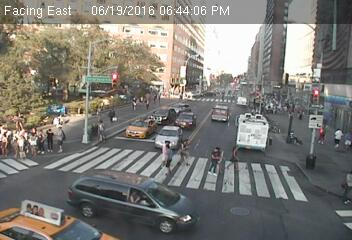neg: (127, 184, 145, 208), (51, 92, 66, 111), (38, 98, 52, 117), (71, 93, 84, 111), (98, 66, 110, 83), (86, 68, 93, 78), (89, 80, 95, 89)
pos: (206, 145, 229, 176), (226, 143, 246, 170), (330, 125, 349, 151), (106, 107, 120, 125), (128, 95, 141, 113), (142, 96, 155, 113)
